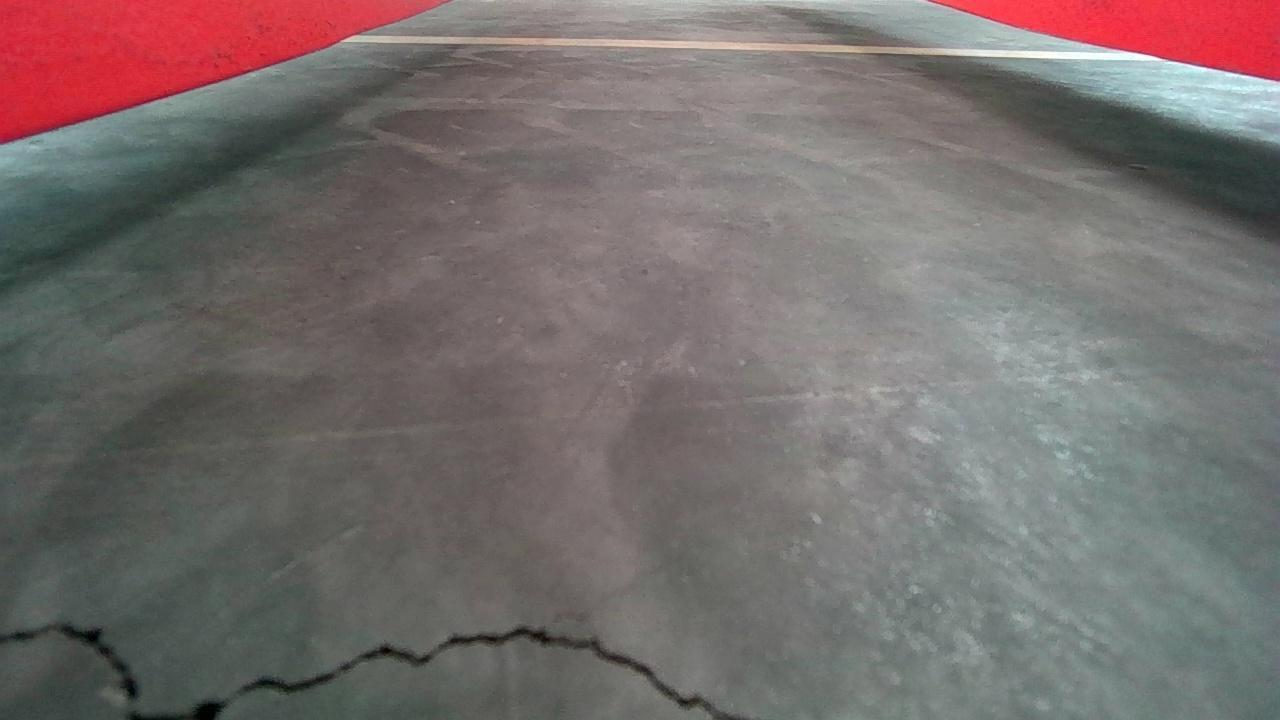yellow_line: (341, 31, 1163, 59)
